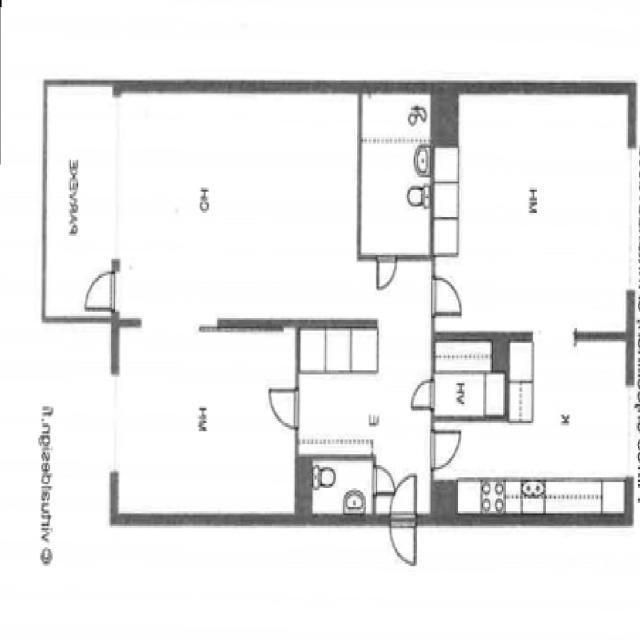door: (390, 476, 416, 525), (390, 514, 416, 562), (86, 273, 120, 309), (270, 391, 301, 428), (430, 431, 459, 468), (430, 279, 458, 314), (378, 254, 397, 288), (412, 382, 434, 408), (372, 468, 393, 493)
